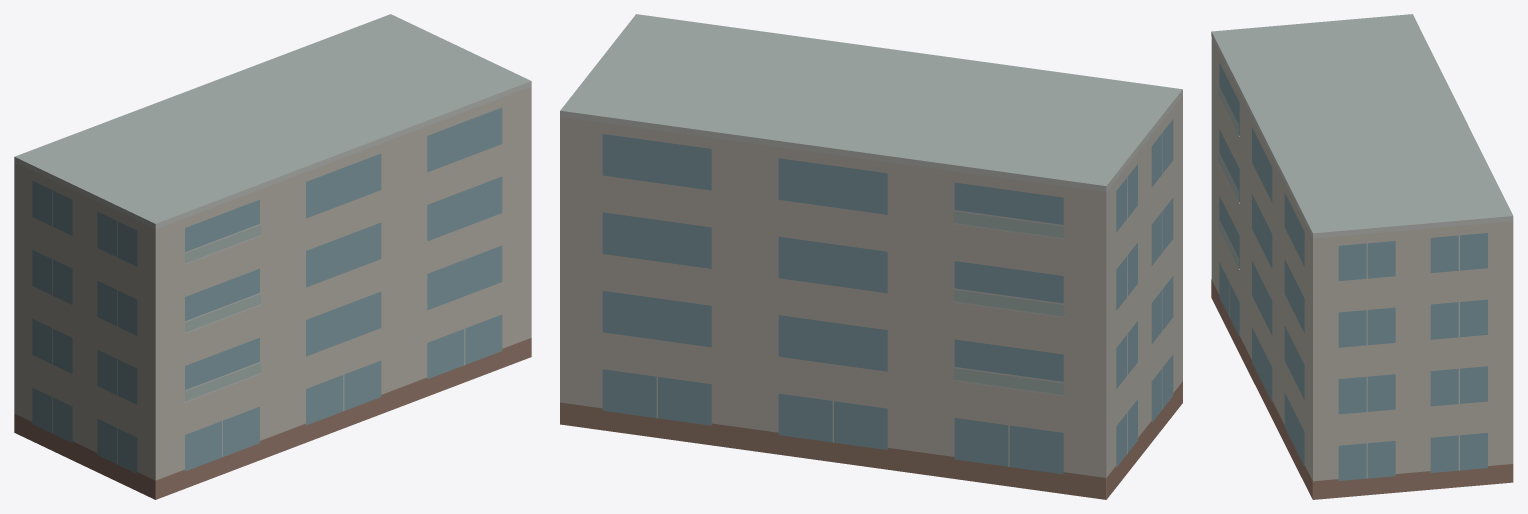
File: survey-upis-33036277.glb
The picture shows the model from 3 angles, left to right: view 1: azimuth 30°, elevation 25°; view 2: azimuth 150°, elevation 25°; view 3: azimuth 270°, elevation 25°; orthographic projection. The views are drawn at different scales.
Parts seen in each view (by area): view 1: survey-upis-33036277.tmp; view 2: survey-upis-33036277.tmp; view 3: survey-upis-33036277.tmp.
Boxes of the visible parts, x1=… form: survey-upis-33036277.tmp: x1=14, y1=14, x2=531, y2=499; survey-upis-33036277.tmp: x1=560, y1=14, x2=1182, y2=499; survey-upis-33036277.tmp: x1=1211, y1=14, x2=1513, y2=499.
Size of the model in its own units: 22.07 by 12.5 by 12.84.
